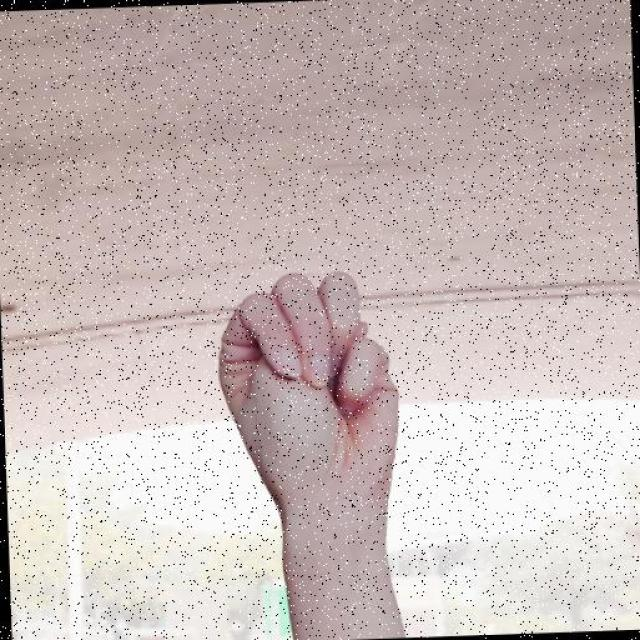M: (208, 265, 404, 511)
